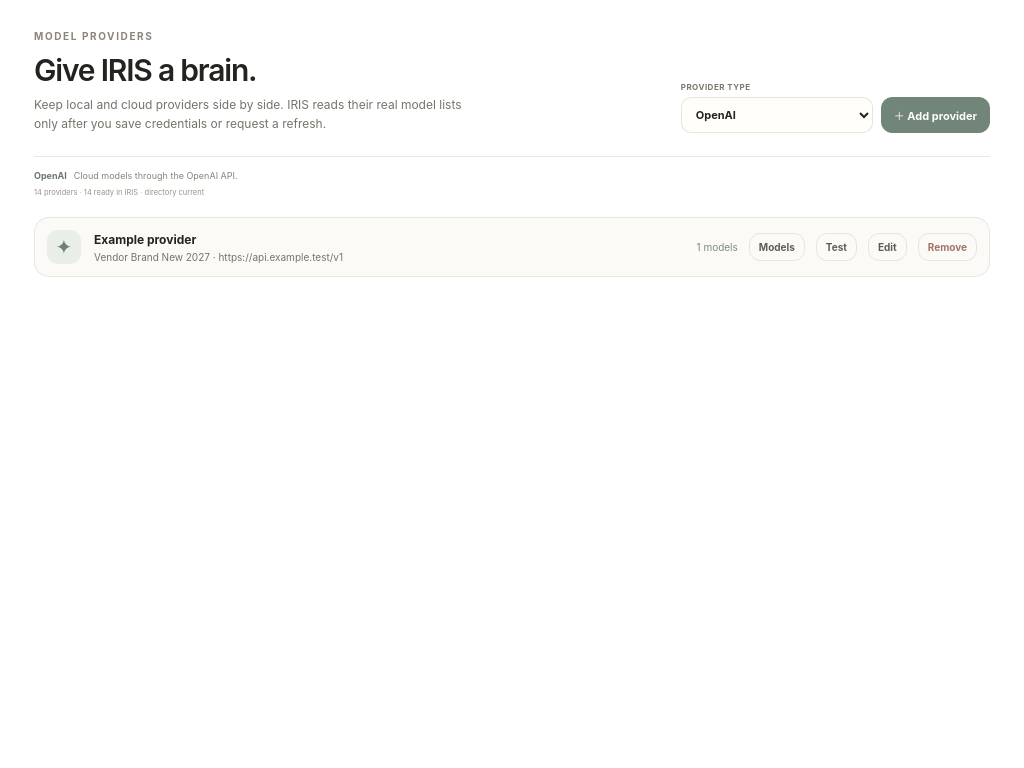
Models surface model compatibility › shows an unknown future chat model that has valid metadata
Click the button "Edit".
click(887, 247)  # box x1=868 y1=233 x2=907 y2=261
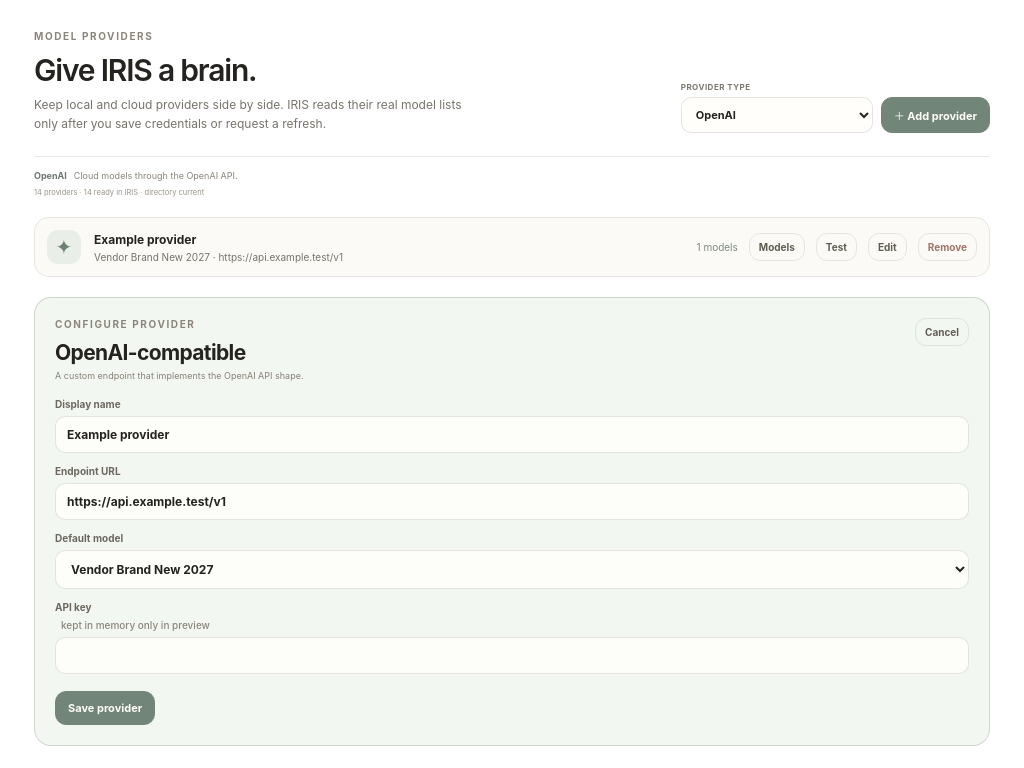
Result: the dropdown labelled "Default model" shows "Vendor Brand New 2027" at x1=55 y1=550 x2=969 y2=589
